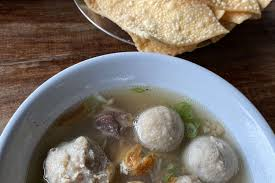bakso: (37, 90, 231, 183)
